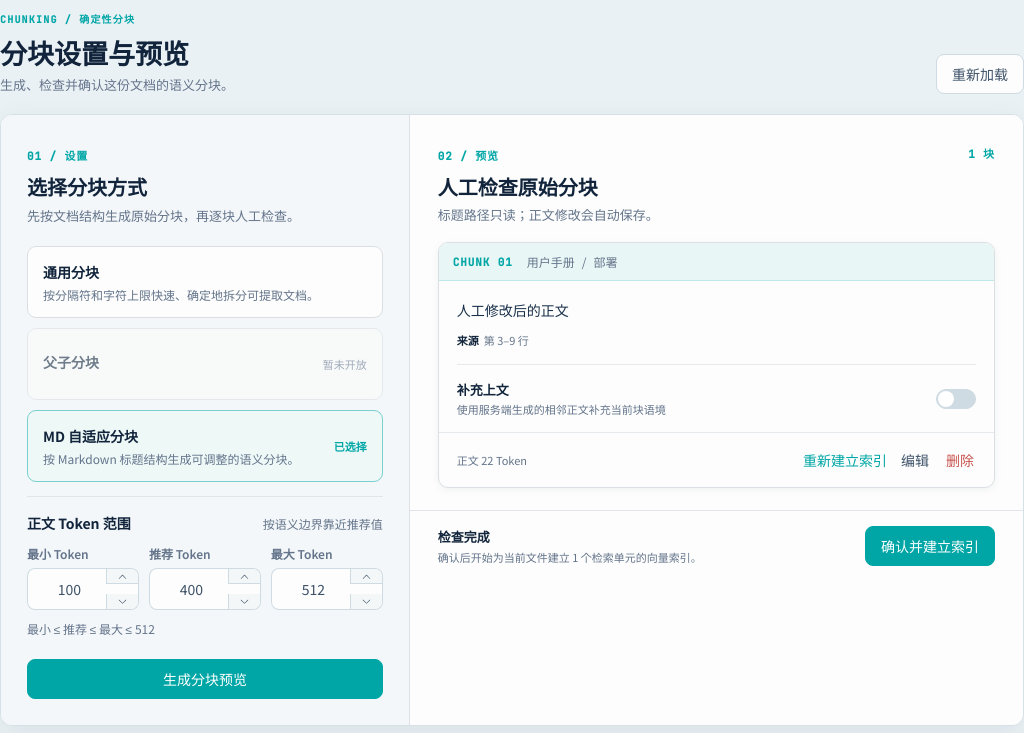
it: ChunkingWorkspace › keeps the conflict and local body when the forced chunk reload fails
The width and height of the screenshot is (1024, 733).
Click the button with test id "edit-chunk": (915, 460) [895,440,935,480]
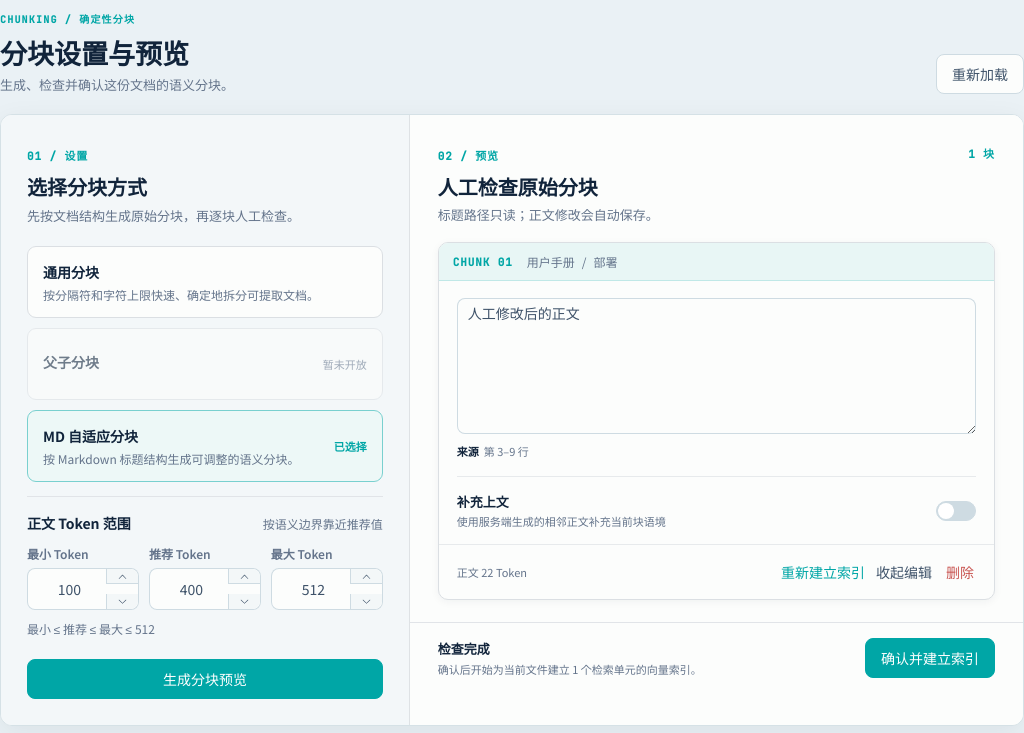
Replace the text in the text box named "分块正文" with "仍需保留的本地正文": (716, 366) [457,298,976,434]
Wait 650 ms
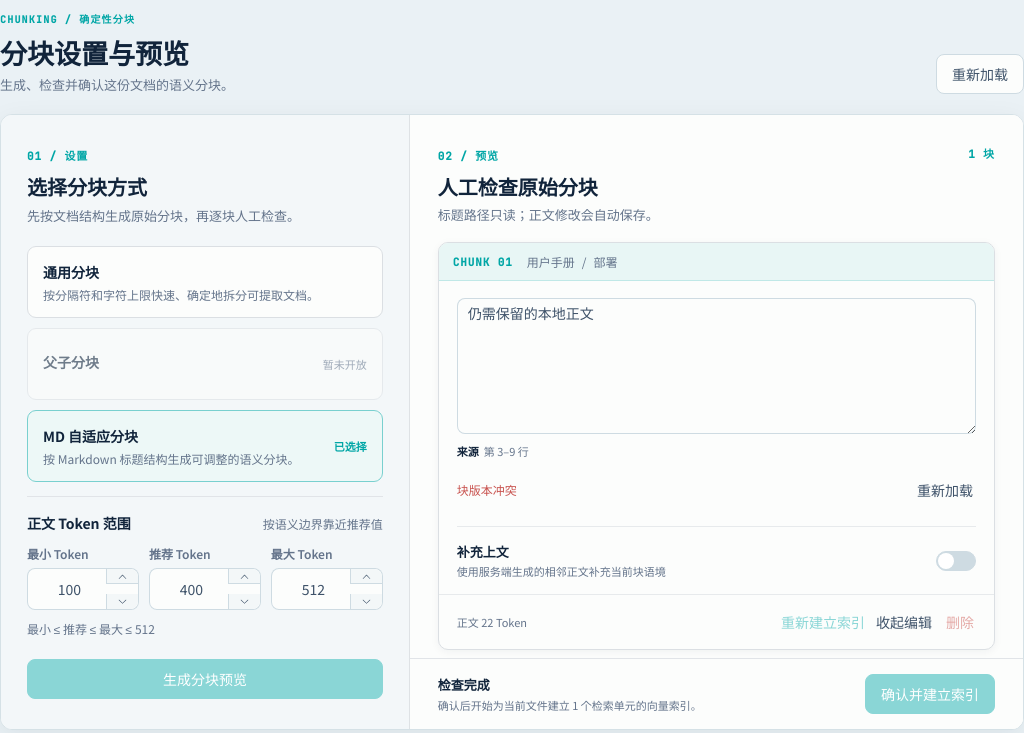
Click the button with test id "reload-chunk": (945, 490) [914,470,976,510]
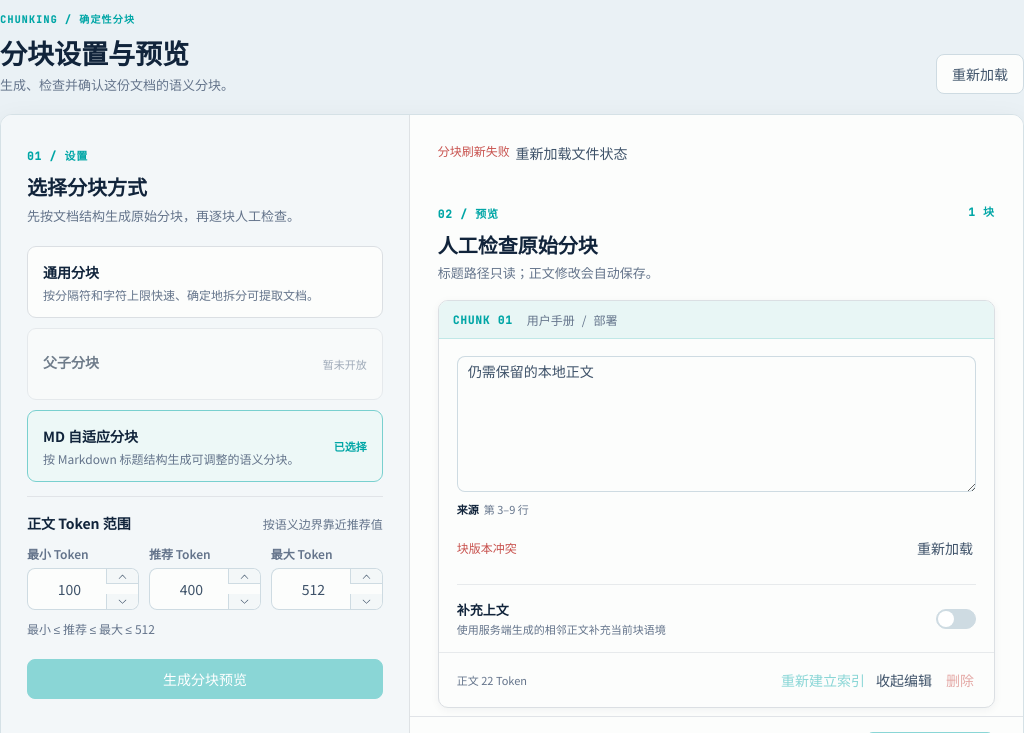
Check: the button with test id "reload-chunk" is shown, box [914,528,976,568]
Check: the text "分块刷新失败" is shown, box [438,142,512,159]
